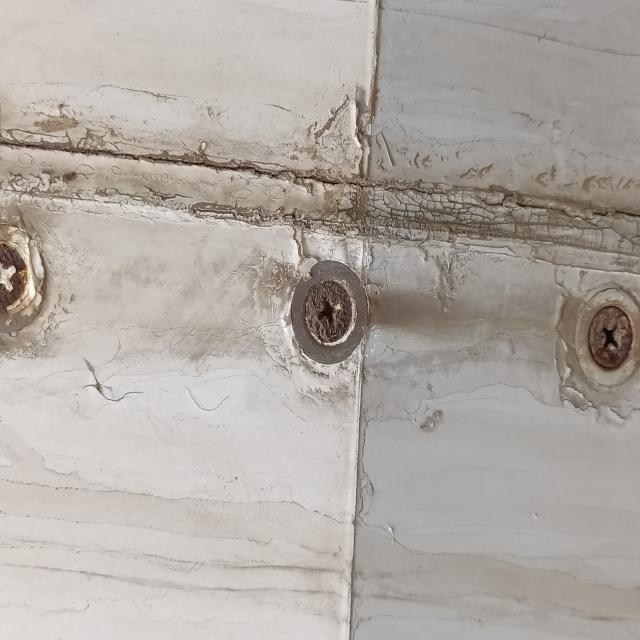Fastener Damage: (306, 282, 354, 342), (591, 307, 637, 368), (0, 240, 34, 314)
